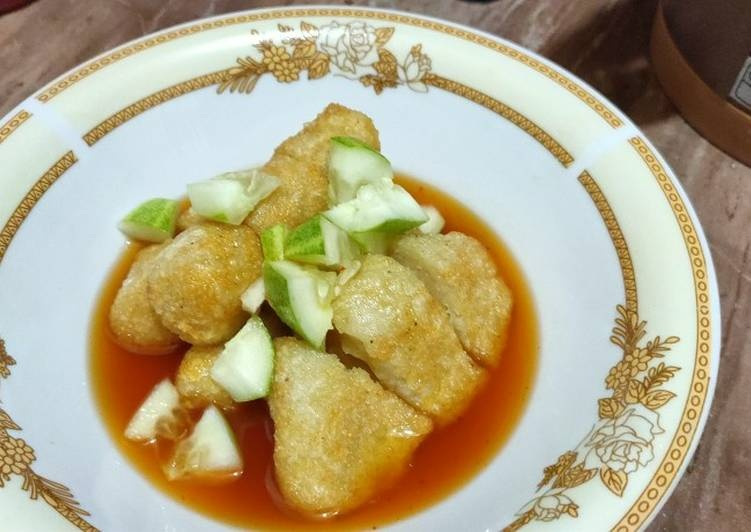pempek: (108, 102, 514, 522)
